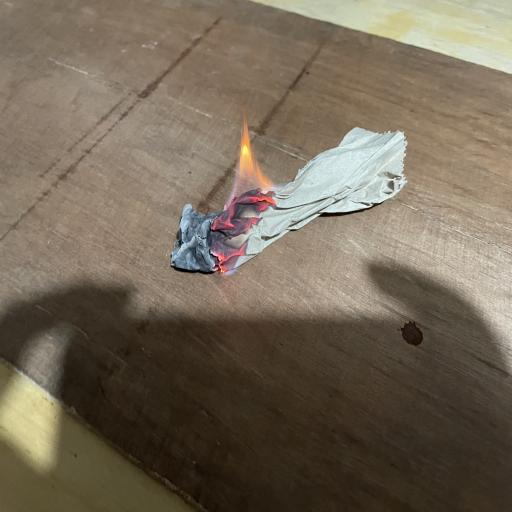fire: (192, 129, 282, 283)
